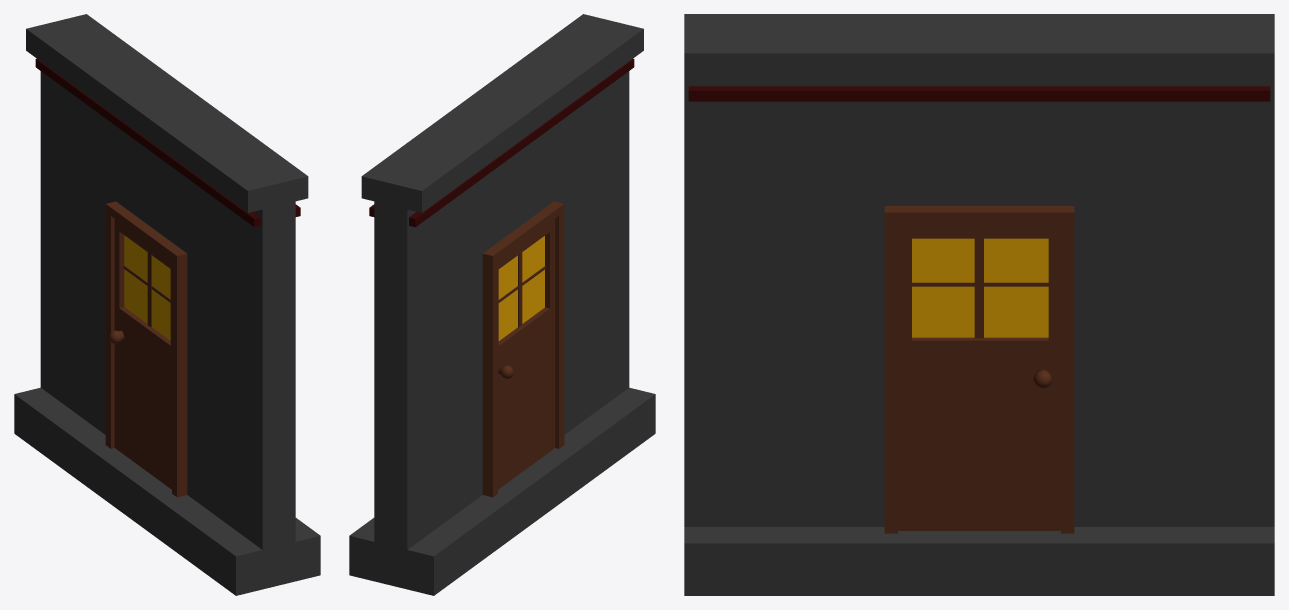
Rendered from Door02_kikl.fbx.
3 renders of one model, left to right at view 1: azimuth 30°, elevation 25°; view 2: azimuth 150°, elevation 25°; view 3: azimuth 270°, elevation 25°, orthographic. The views are drawn at different scales.
Visible parts, largest first — view 1: Cube.006, Cube.007, Cube.008, Cube.010; view 2: Cube.006, Cube.007, Cube.008, Cube.010; view 3: Cube.006, Cube.007, Cube.008, Cube.010.
Boxes of the visible parts, box(x1,y1,x2,y2) form: Cube.006: box(14, 14, 320, 595); Cube.007: box(105, 201, 187, 497); Cube.008: box(124, 235, 170, 340); Cube.010: box(35, 58, 300, 227); Cube.006: box(349, 14, 655, 595); Cube.007: box(482, 201, 564, 497); Cube.008: box(498, 236, 544, 340); Cube.010: box(369, 58, 634, 227); Cube.006: box(684, 14, 1274, 595); Cube.007: box(884, 206, 1074, 533); Cube.008: box(912, 238, 1048, 337); Cube.010: box(688, 86, 1270, 101).
Size of the model in its own units: 245 by 1112 by 1112.
